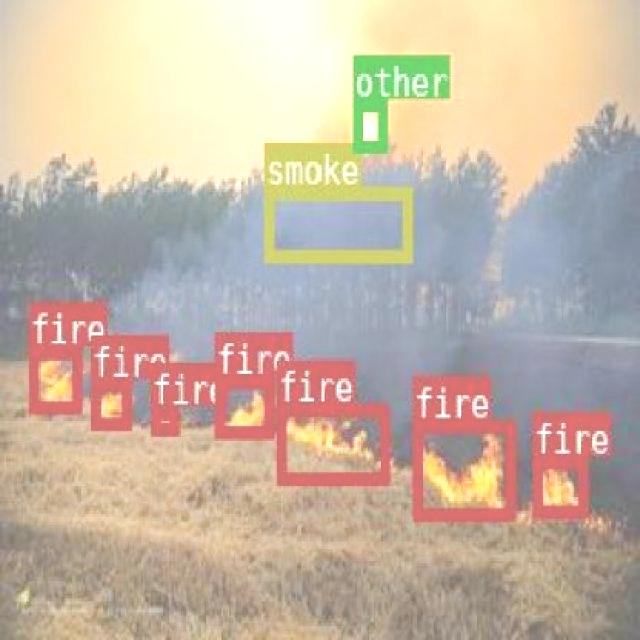fire: (410, 417, 512, 517), (275, 402, 388, 482), (27, 345, 81, 410), (213, 376, 272, 434), (532, 454, 586, 514), (89, 377, 129, 428), (149, 405, 177, 433)
smoke: (264, 186, 408, 259)
